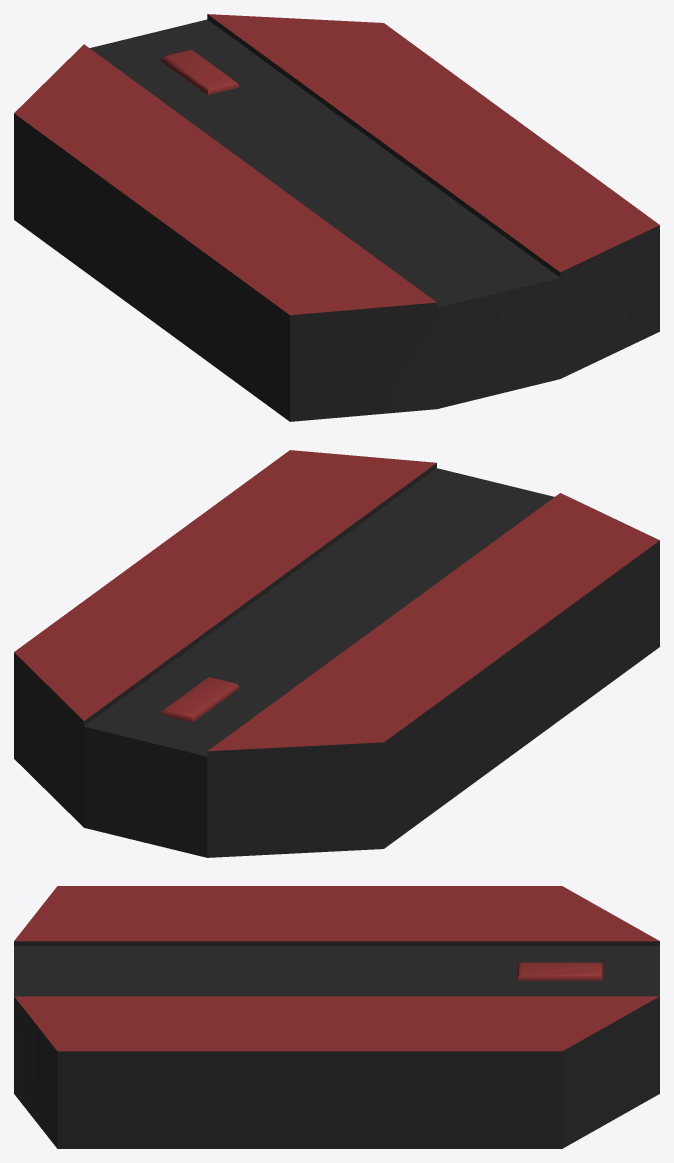
Rendered from Mouse.fbx.
The picture shows the model from 3 angles, top to bottom: view 1: azimuth 30°, elevation 25°; view 2: azimuth 150°, elevation 25°; view 3: azimuth 270°, elevation 25°; orthographic projection. The views are drawn at different scales.
Visible parts, largest first — view 1: Mouse; view 2: Mouse; view 3: Mouse.
Boxes of the visible parts, x1,y1,x2,y2 form: Mouse: [14, 14, 659, 421]; Mouse: [14, 450, 659, 857]; Mouse: [14, 886, 659, 1148].
Bounding box in the file's own units: 0.0553 × 0.0153 × 0.0915.
